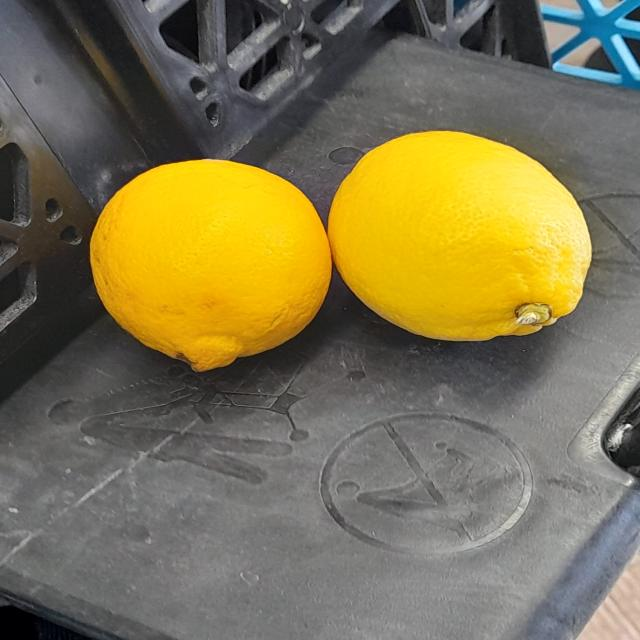lemon: (320, 115, 629, 360), (81, 133, 337, 381)
